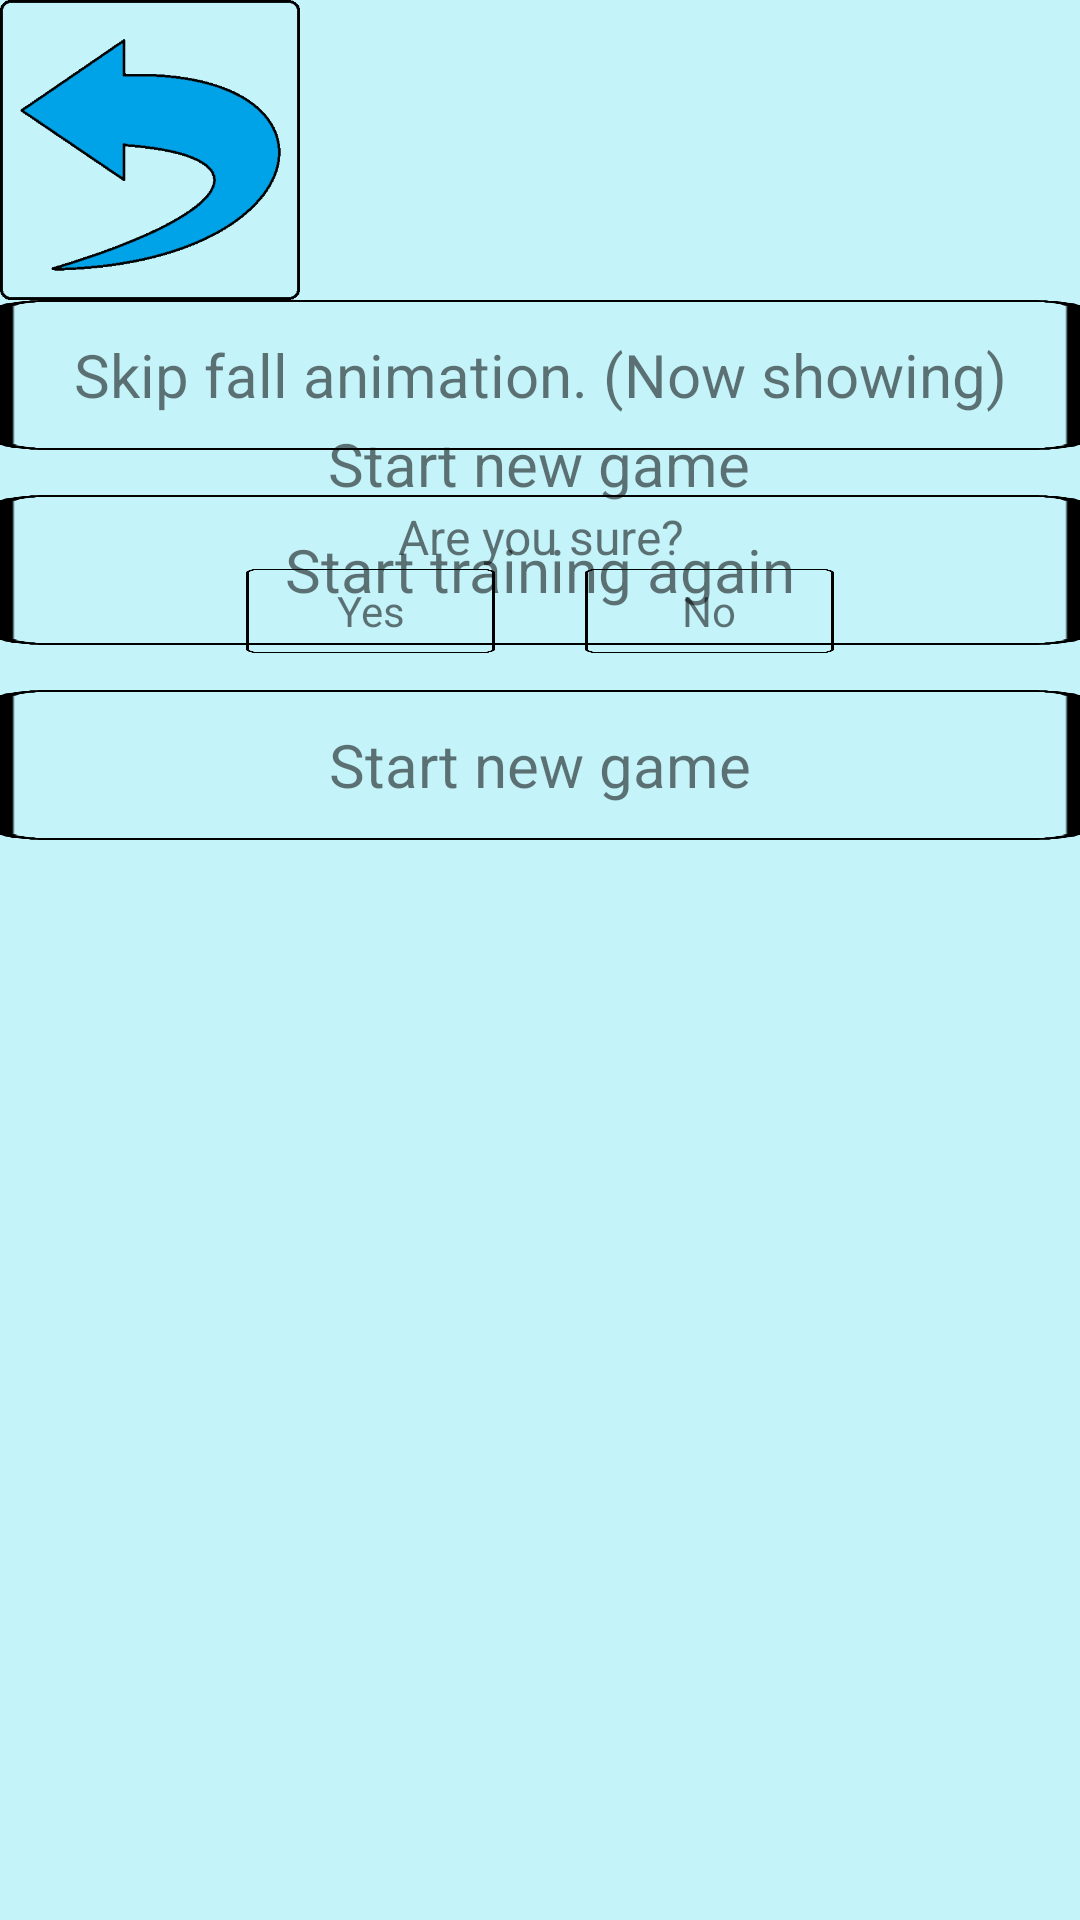

Icon bounding boxes for this 1080 × 1920 phone screenshot, format box(x1, y1, x2, y2):
back: box(20, 39, 281, 271)
